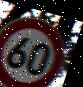Speed Limit -60-: (0, 8, 71, 87)
